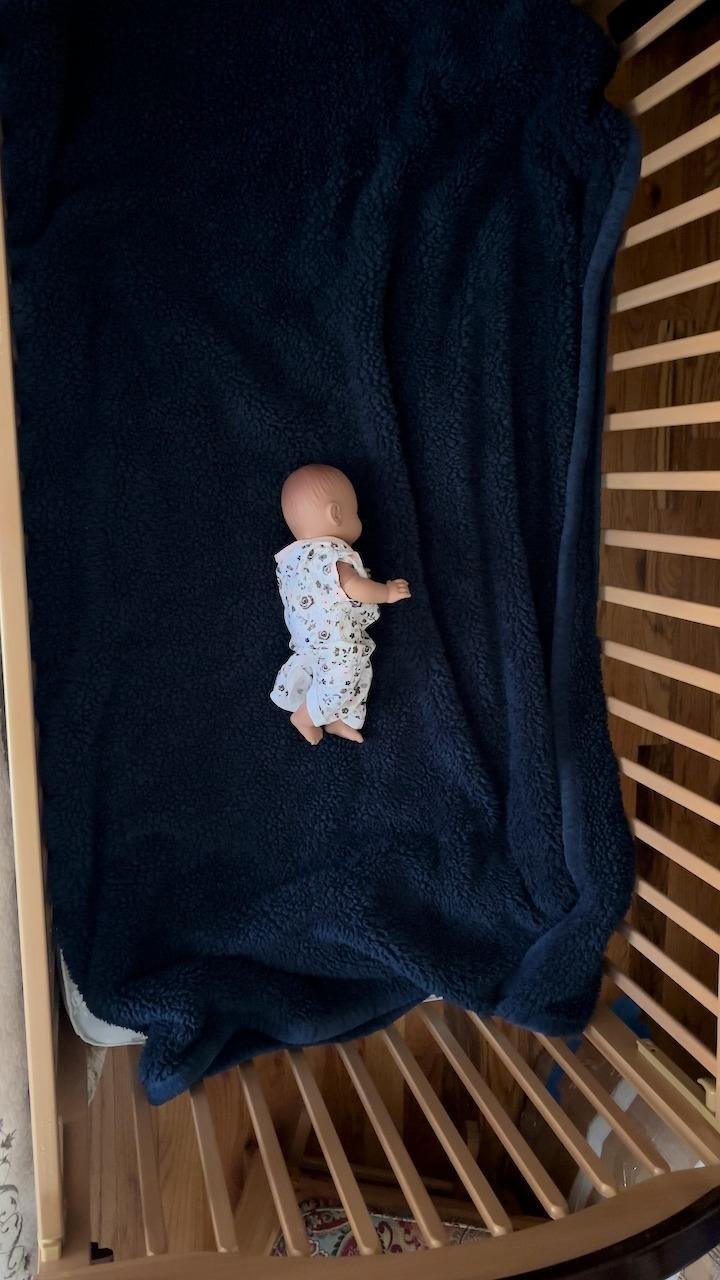baby: (264, 458, 416, 751)
